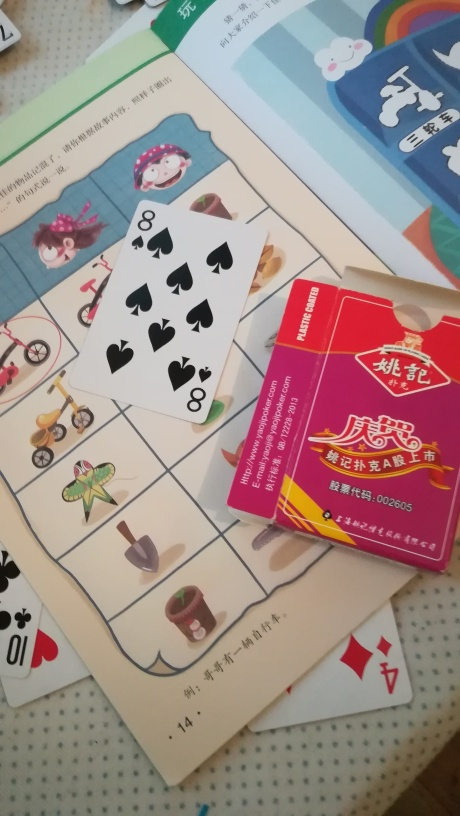ht 8: (61, 196, 270, 425)
